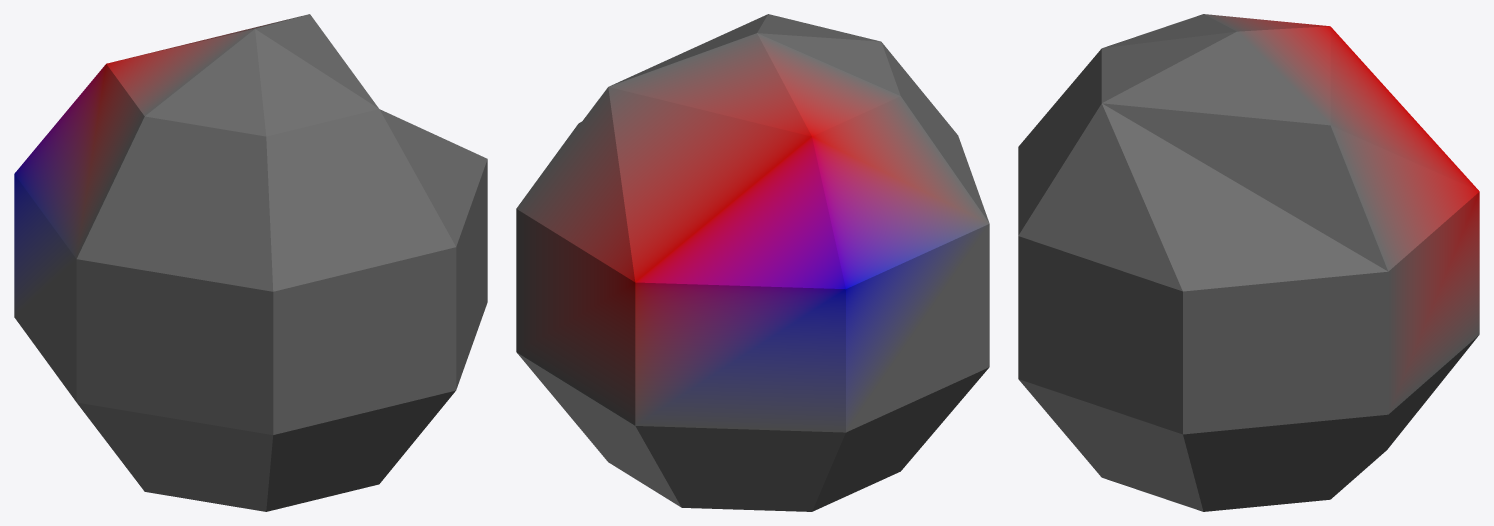
Rendered from before_retriangulation_2.obj.
3 renders of one model, left to right at view 1: azimuth 30°, elevation 25°; view 2: azimuth 150°, elevation 25°; view 3: azimuth 270°, elevation 25°, orthographic.
Size of the model in its own units: 1.85 by 2 by 1.81.
